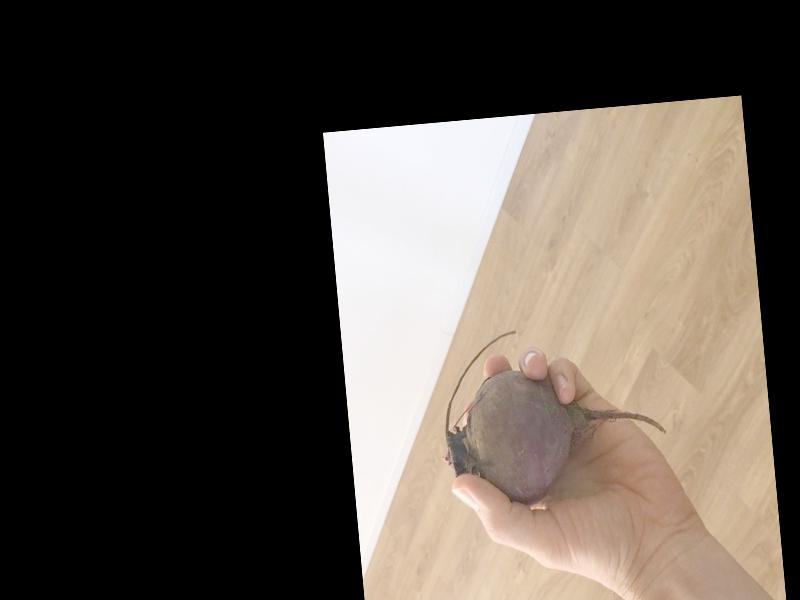Beet: (432, 316, 669, 511)
